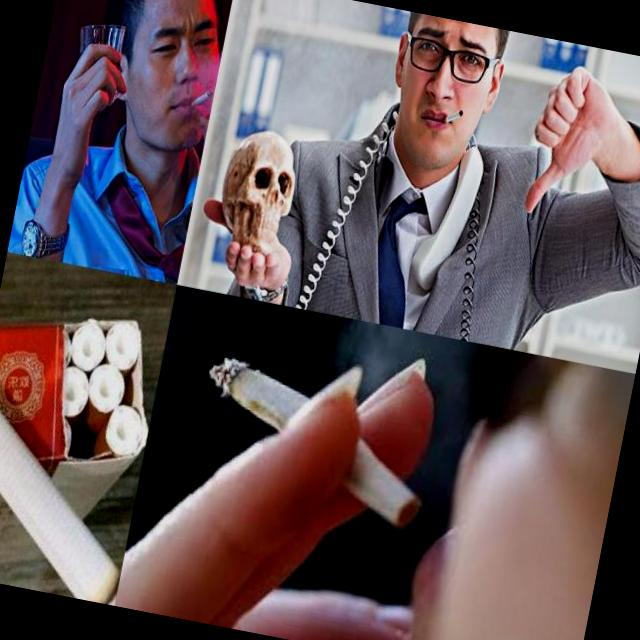smoke: (0, 252, 177, 605), (186, 354, 439, 532), (187, 76, 217, 112), (442, 106, 464, 126)
